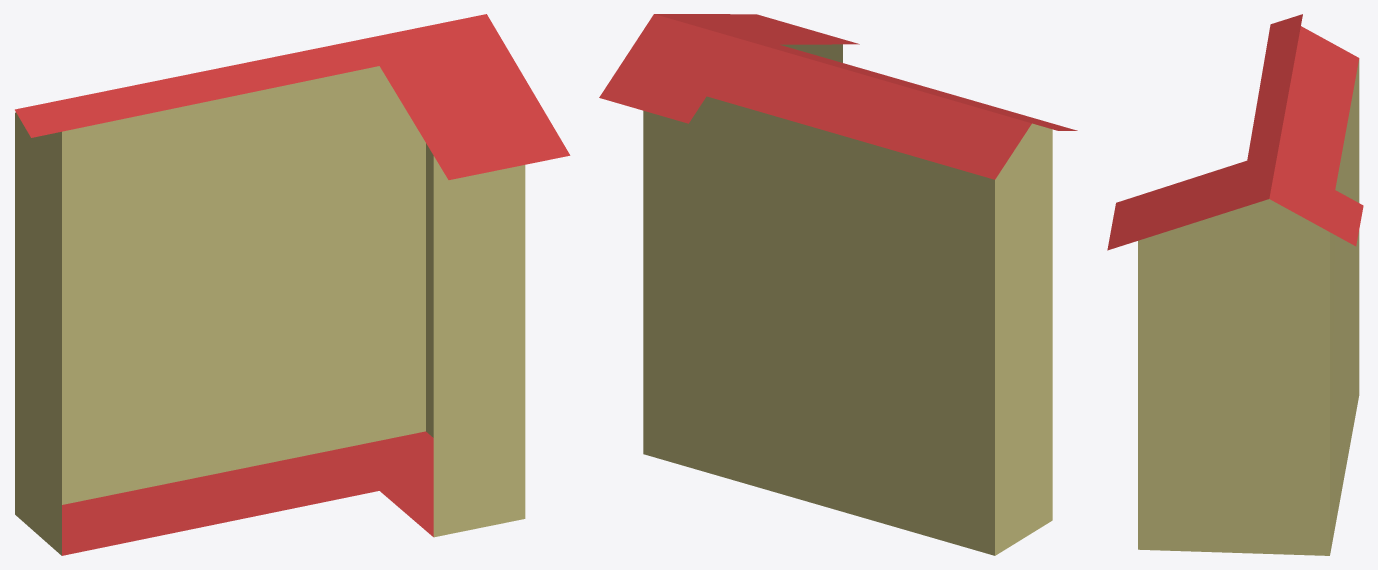
The picture shows the model from 3 angles, left to right: view 1: azimuth 30°, elevation 25°; view 2: azimuth 150°, elevation 25°; view 3: azimuth 270°, elevation 25°; orthographic projection. The views are drawn at different scales.
Size of the model in its own units: 7.84 by 4.5 by 7.1.
